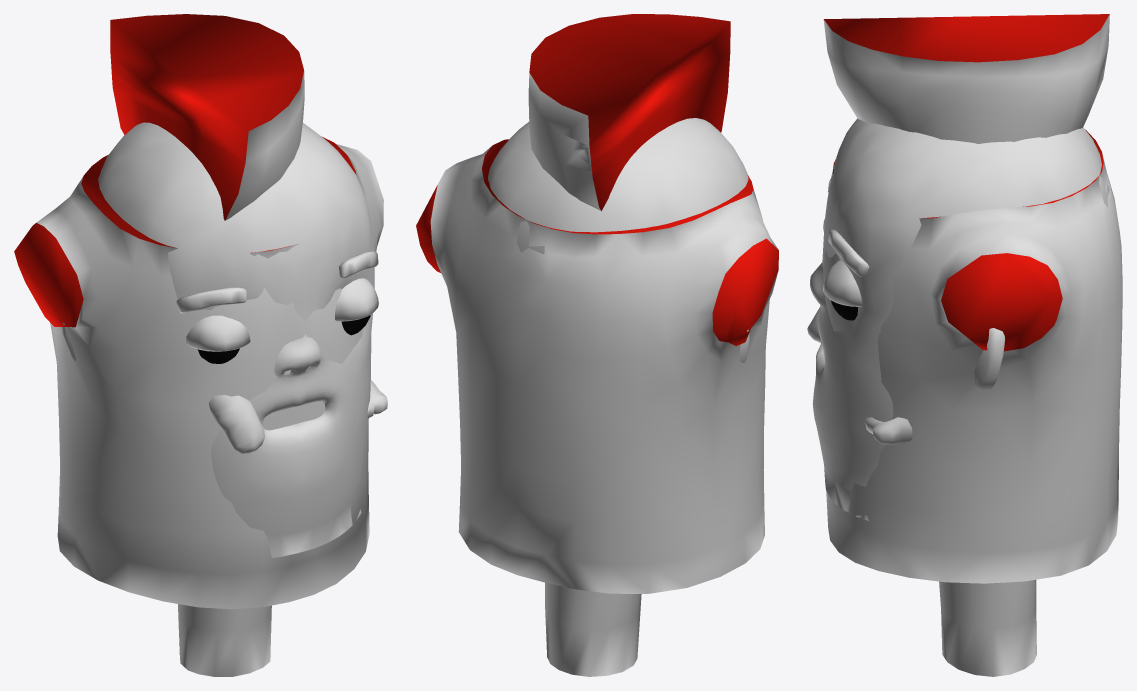
File: Gibs.fbx
3 renders of one model, left to right at view 1: azimuth 30°, elevation 25°; view 2: azimuth 150°, elevation 25°; view 3: azimuth 270°, elevation 25°, orthographic. The views are drawn at different scales.
Parts seen in each view (by area): view 1: CitizenTorso_LOD0, CitizenHead_LOD0, CitizenLegs_LOD0.001, CitizenHands_LOD0.001; view 2: CitizenTorso_LOD0, CitizenLegs_LOD0.001, CitizenHead_LOD0; view 3: CitizenTorso_LOD0, CitizenHead_LOD0, CitizenLegs_LOD0.001, CitizenFeet_LOD0.001.
Boxes of the visible parts, <box> form: CitizenTorso_LOD0: <box>14,137,383,609</box>; CitizenHead_LOD0: <box>61,122,378,557</box>; CitizenLegs_LOD0.001: <box>110,14,304,676</box>; CitizenHands_LOD0.001: <box>208,395,264,453</box>; CitizenTorso_LOD0: <box>416,139,778,593</box>; CitizenLegs_LOD0.001: <box>528,14,730,676</box>; CitizenHead_LOD0: <box>488,118,749,362</box>; CitizenTorso_LOD0: <box>822,129,1122,583</box>; CitizenHead_LOD0: <box>810,118,1109,520</box>; CitizenLegs_LOD0.001: <box>823,14,1109,676</box>; CitizenFeet_LOD0.001: <box>865,417,912,444</box>.
Size of the model in its own units: 433 by 781 by 359.
